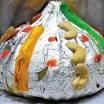modak: (1, 1, 104, 100)
